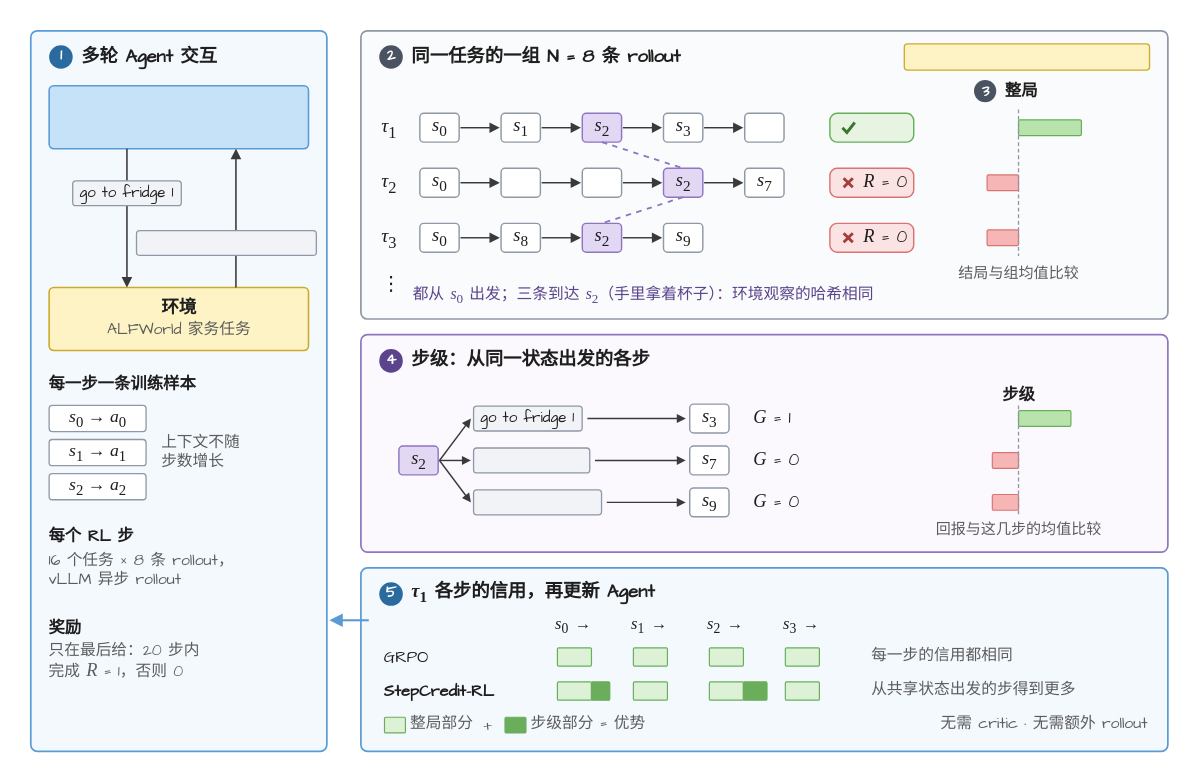
The diagram is 1197 pixels wide and 781 high, and some of its shapes have lost their labels. Here are the shapes that lost their labels. From the top down, the box of each, then its label:
(903, 43, 1150, 70): 任务：“put a cool mug in cabinet”
(48, 84, 309, 149): LLM Agent Qwen3-4B
(743, 112, 784, 142): s 4
(829, 112, 914, 142): R = 1
(500, 167, 541, 197): s 5
(581, 167, 622, 197): s 6
(135, 229, 316, 255): “You arrive at fridge 1.”
(472, 447, 590, 473): go to cabinet 1
(472, 489, 602, 515): go to sinkbasin 1
